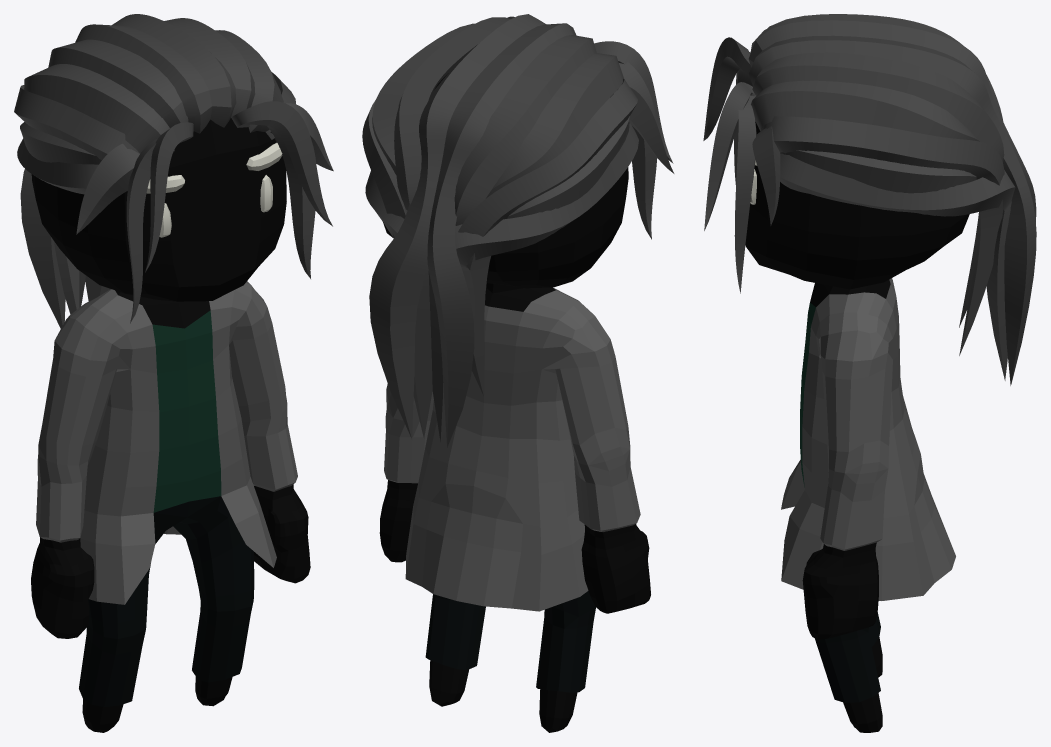
Rendered from Doctor_Female_Old.obj.
3 views of the same model, side by side, from view 1: azimuth 30°, elevation 25°; view 2: azimuth 150°, elevation 25°; view 3: azimuth 270°, elevation 25° (orthographic). The views are drawn at different scales.
Visible parts, largest first — view 1: Body_CUNurbsPath.010; view 2: Body_CUNurbsPath.010; view 3: Body_CUNurbsPath.010.
Boxes of the visible parts, <box> form: Body_CUNurbsPath.010: <box>14,14,333,732</box>; Body_CUNurbsPath.010: <box>362,14,674,732</box>; Body_CUNurbsPath.010: <box>703,14,1036,732</box>.
Size of the model in its own units: 1.29 by 3.17 by 1.42.
